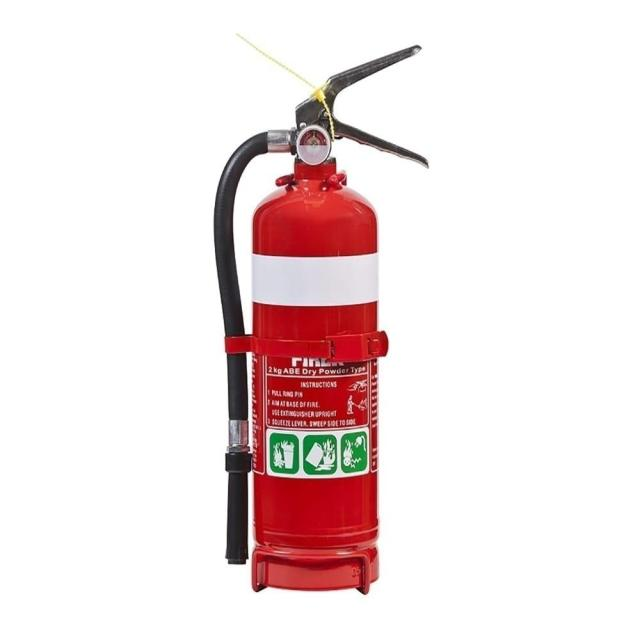fire_extinguisher: (206, 40, 437, 598)
